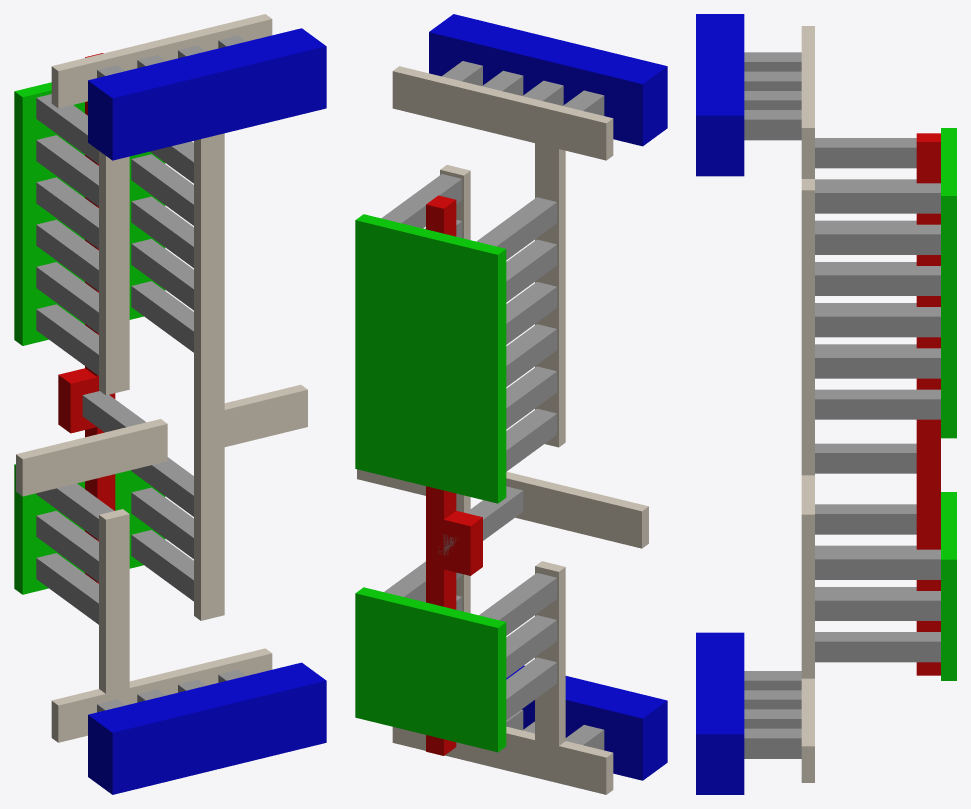
The model's file is inverter.glb.
3 renders of one model, left to right at view 1: azimuth 30°, elevation 25°; view 2: azimuth 150°, elevation 25°; view 3: azimuth 270°, elevation 25°, orthographic. The views are drawn at different scales.
Parts seen in each view (by area): view 1: met1_1, met1_0, li1_2, li1_3, li1_0, diff_1, li1_1, diff_0, poly_0, licon1_15, licon1_0, licon1_3 (+15 smaller); view 2: diff_1, diff_0, li1_3, met1_1, li1_0, met1_0, poly_0, li1_1, li1_2, licon1_17, licon1_4, licon1_15 (+14 smaller); view 3: met1_0, met1_1, li1_2, poly_0, diff_1, licon1_1, licon1_5, licon1_8, licon1_10, licon1_12, licon1_16, licon1_18 (+20 smaller).
Boxes of the visible parts, bbox=[...] form: met1_1: bbox=[88, 28, 326, 160]; met1_0: bbox=[88, 662, 326, 794]; li1_2: bbox=[194, 133, 307, 620]; li1_3: bbox=[51, 14, 272, 395]; li1_0: bbox=[51, 509, 272, 742]; diff_1: bbox=[14, 82, 165, 345]; li1_1: bbox=[16, 419, 167, 496]; diff_0: bbox=[14, 464, 165, 594]; poly_0: bbox=[58, 53, 115, 583]; licon1_15: bbox=[36, 135, 98, 206]; licon1_0: bbox=[36, 553, 98, 624]; licon1_3: bbox=[131, 487, 193, 558]; diff_1: bbox=[355, 214, 506, 503]; diff_0: bbox=[355, 587, 506, 752]; li1_3: bbox=[392, 66, 613, 447]; met1_1: bbox=[429, 14, 667, 146]; li1_0: bbox=[392, 561, 613, 794]; met1_0: bbox=[506, 665, 667, 780]; poly_0: bbox=[426, 195, 482, 755]; li1_1: bbox=[506, 471, 648, 548]; li1_2: bbox=[357, 165, 470, 613]; licon1_17: bbox=[476, 197, 556, 259]; licon1_4: bbox=[479, 573, 556, 635]; licon1_15: bbox=[506, 239, 556, 302]; met1_0: bbox=[696, 632, 744, 794]; met1_1: bbox=[696, 14, 744, 176]; li1_2: bbox=[801, 179, 814, 675]; poly_0: bbox=[916, 133, 940, 675]; diff_1: bbox=[941, 128, 956, 438]; licon1_1: bbox=[815, 632, 940, 662]; licon1_5: bbox=[815, 549, 940, 579]; licon1_8: bbox=[815, 389, 940, 419]; licon1_10: bbox=[815, 348, 940, 378]; licon1_12: bbox=[815, 307, 940, 337]; licon1_16: bbox=[815, 224, 940, 254]; licon1_18: bbox=[815, 183, 940, 213].
Bounding box in the file's own units: 2.4 × 5.6 × 1.95.
